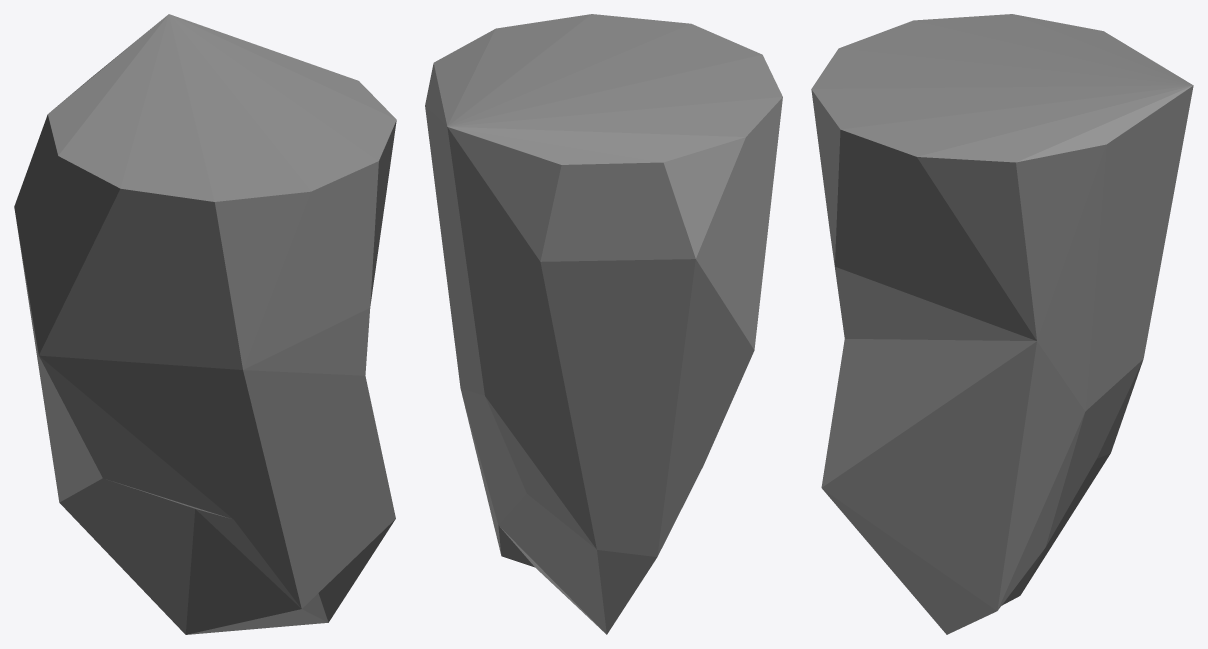
Rendered from Stalactite 2.fbx.
The picture shows the model from 3 angles, left to right: view 1: azimuth 30°, elevation 25°; view 2: azimuth 150°, elevation 25°; view 3: azimuth 270°, elevation 25°; orthographic projection. The views are drawn at different scales.
Parts seen in each view (by area): view 1: Stalactite_2; view 2: Stalactite_2; view 3: Stalactite_2.
Part boxes in pixels (x1,y1,x2,y2): Stalactite_2: (14, 14, 396, 634); Stalactite_2: (425, 14, 782, 634); Stalactite_2: (811, 14, 1193, 634).
Bounding box in the file's own units: 149 × 244 × 155.
1 material, 1 textured.
